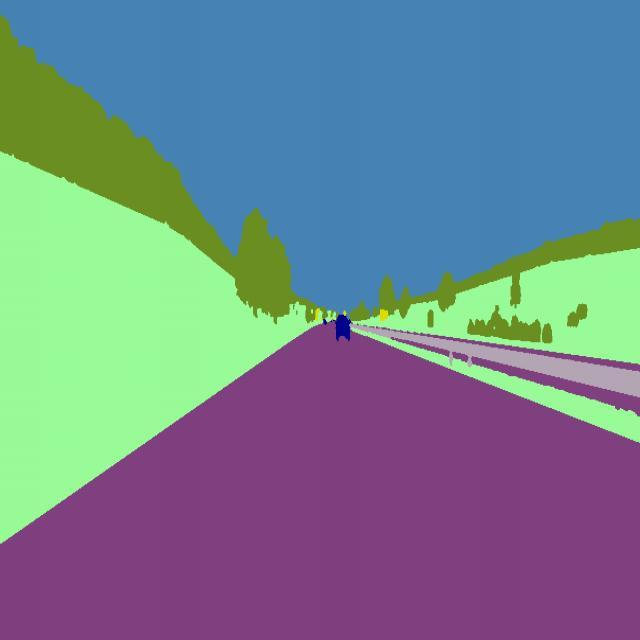safe: (332, 313, 353, 347)
